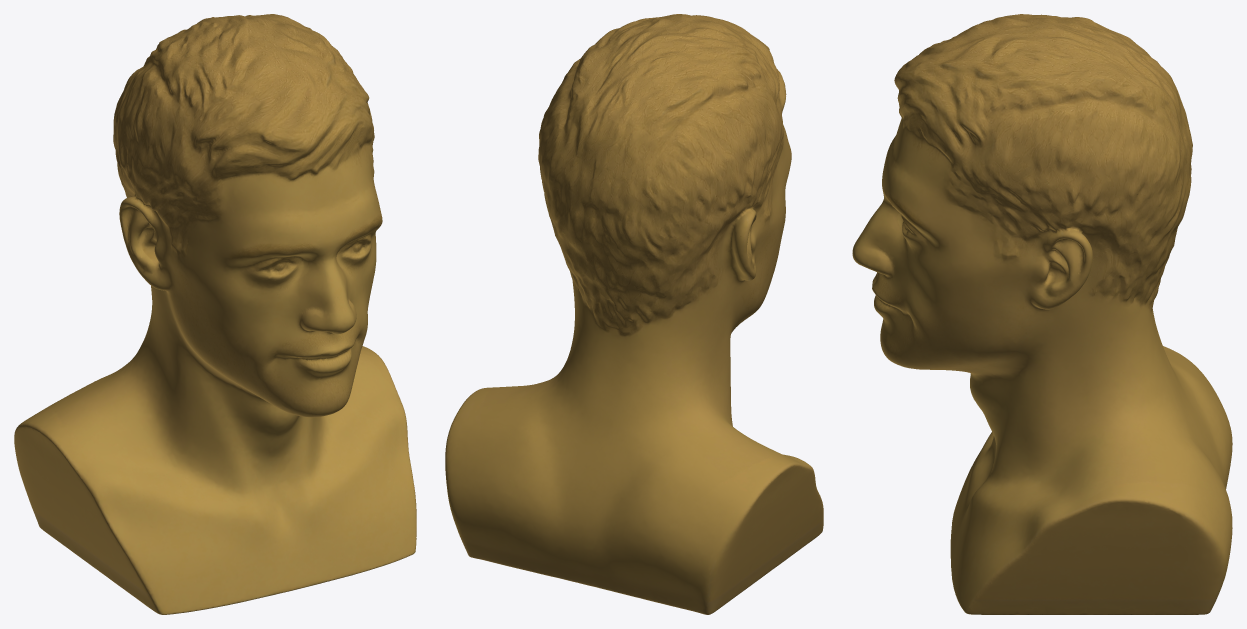
File: davy-jones-trofeu.glb
3 views of the same model, side by side, from view 1: azimuth 30°, elevation 25°; view 2: azimuth 150°, elevation 25°; view 3: azimuth 270°, elevation 25° (orthographic). The views are drawn at different scales.
Bounding box in the file's own units: 1.25 × 1.9 × 1.24.
Materials: 1 (1 with a texture image).
